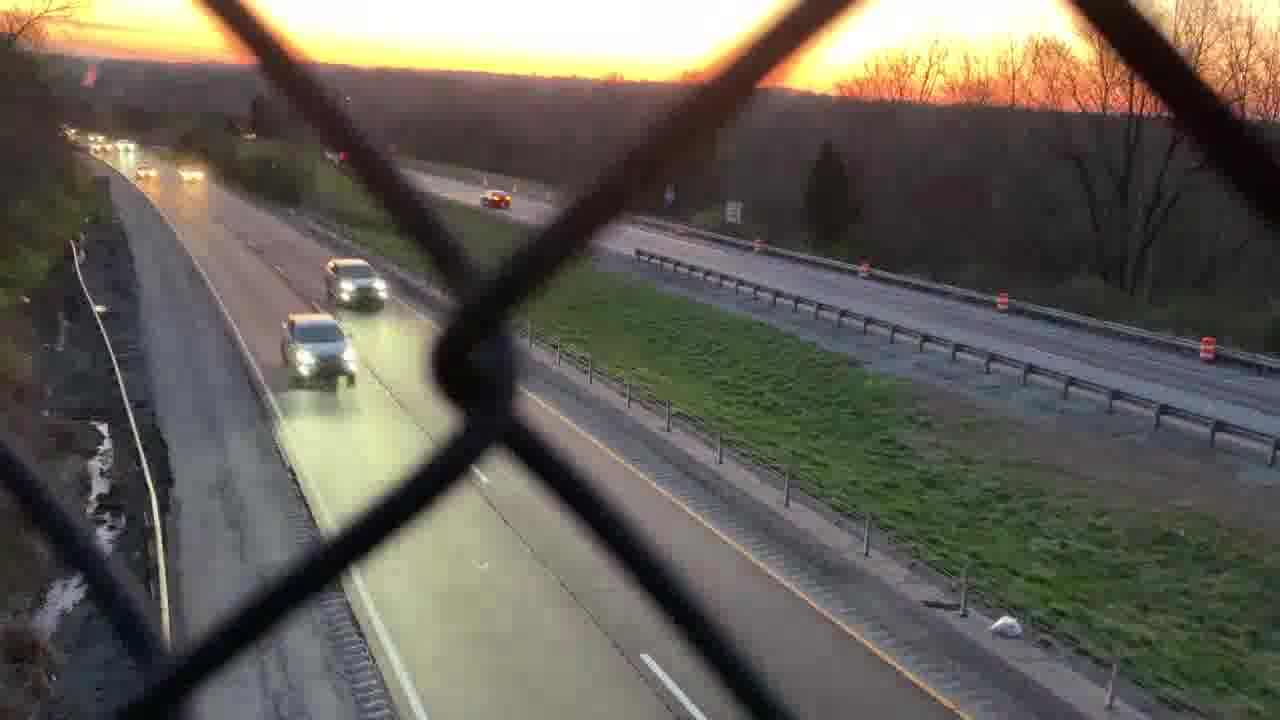largeCar: (282, 303, 352, 385), (326, 255, 394, 315)
smallCar: (482, 190, 514, 213)
